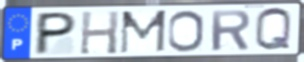H: (78, 9, 121, 56)
M: (118, 9, 169, 56)
O: (167, 9, 206, 53)
P: (32, 11, 80, 57)
Q: (253, 6, 294, 53)
R: (209, 9, 253, 52)
